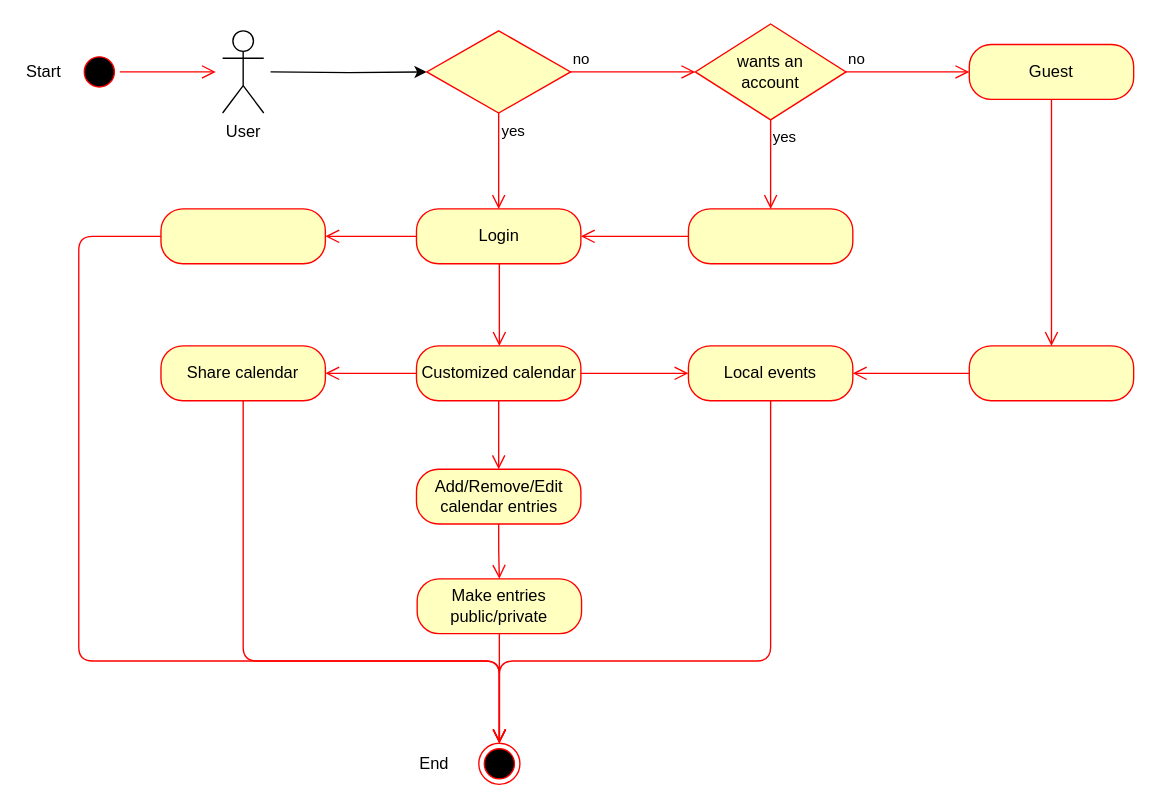
This 1158x808 diagram has some shape labels left out. The shapes that lost their labels are listed below. From the top down, each one's centre as x and y in pixels, then its label:
[498,71]: has account
[242,236]: Manage Friends
[770,236]: Register
[1051,373]: Basic calendar
